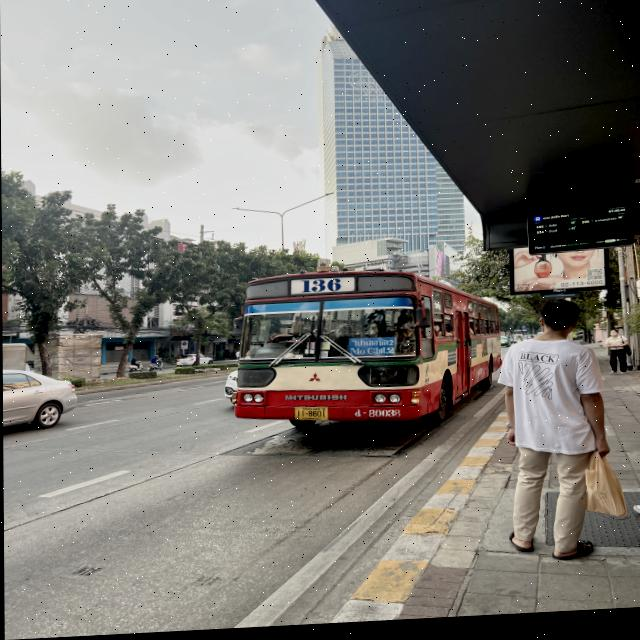BMTA-bus: (229, 263, 502, 438)
Bus-Line-Number: (293, 278, 350, 300)
Destination-Sign-Normal: (348, 341, 394, 363)
